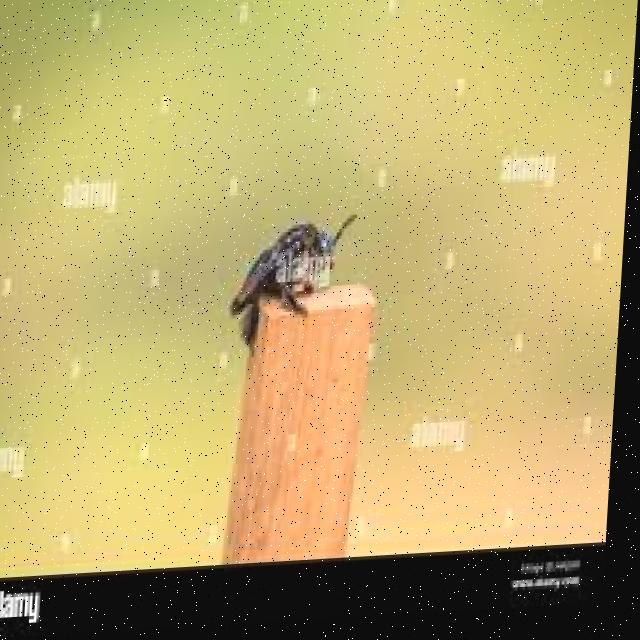Xylocopa: (221, 198, 368, 347)
